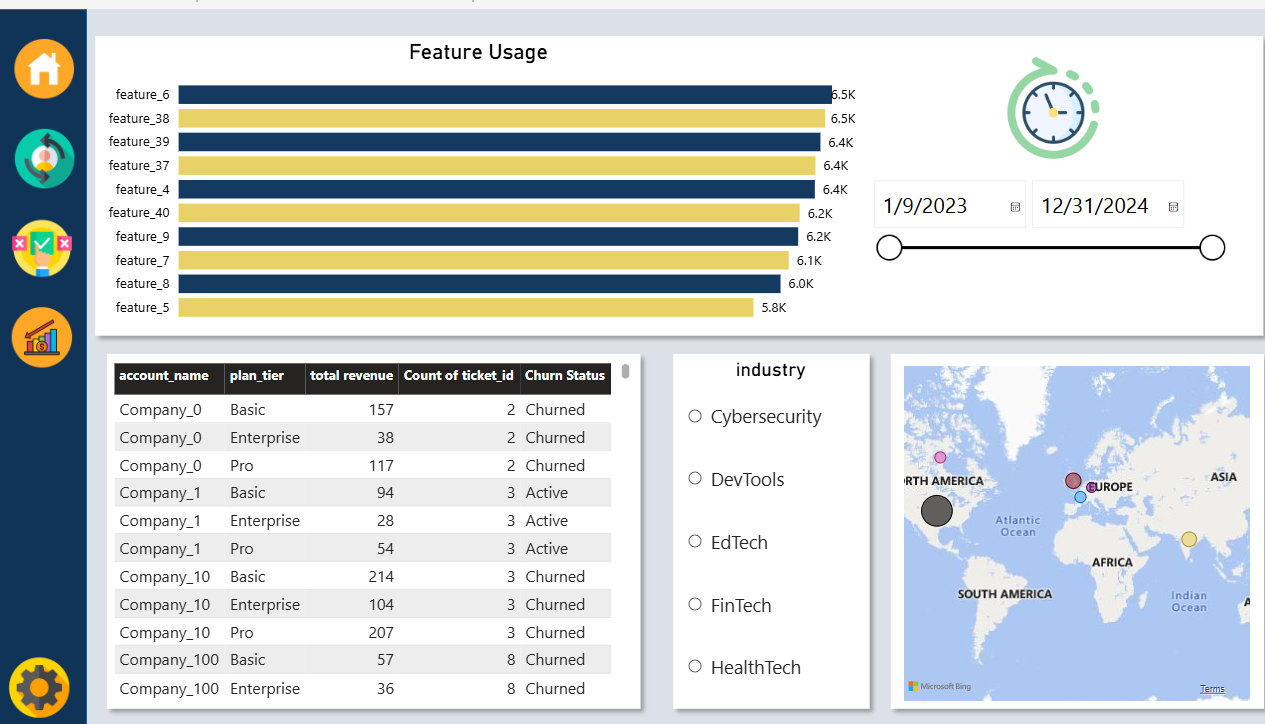

What the dashboard file says about the page in this screenshot:
{"tool":"powerbi","page":{"name":"Customer Behavior Dashboard","canvas":[1280,720],"ordinal":2},"visuals":[{"type":"shape","box":[88.3,18.6,1192.2,318.9],"z":0},{"type":"shape","box":[0,0,88.5,720.6],"z":1000},{"type":"image","box":[7.8,29.9,75.4,59.8],"z":2000},{"type":"image","box":[7.7,651.8,65,60.4],"z":3000},{"type":"image","box":[11.7,210.7,62.4,59.8],"z":4000},{"type":"clusteredBarChart","title":"Feature Usage","fields":{"Category":["ravenstack_feature_usage.feature_name"],"Y":["Table.Total usage"]},"box":[98.8,29.5,767.6,294.6],"z":5000},{"type":"image","box":[10.8,300.4,65,60.4],"z":6000},{"type":"shape","box":[99.1,337.5,554.3,374.7],"z":7000},{"type":"shape","box":[887.2,337.5,393.3,374.7],"z":8000},{"type":"map","fields":{"Category":["ravenstack_accounts.country"],"Size":["Table.total revenue"]},"box":[904.2,353,357.6,346.8],"z":9000},{"type":"tableEx","fields":{"Values":["ravenstack_accounts.account_name","ravenstack_subscriptions.plan_tier","Table.total revenue","ravenstack_support_tickets.ticket_id","Table.Churn Status"]},"box":[109.9,351.5,529.5,346.8],"z":10000},{"type":"shape","box":[668.8,337.5,215.2,374.7],"z":12000},{"type":"listSlicer","fields":{"Values":["ravenstack_accounts.industry"]},"box":[684.3,351.5,182.7,346.8],"z":13000},{"type":"slicer","fields":{"Values":["ravenstack_subscriptions.start_date"]},"box":[866.3,162.9,374.3,128.2],"z":14000},{"type":"image","box":[984.2,48.5,150.7,102.2],"z":15000},{"type":"image","box":[14.3,121,62.4,59.8],"z":15001}]}

Visuals, with their boxes on the page's 1280x720 design canvas (x1, y1, x2, y2). These are canvas units, not pixel positions in the 1265x724 screenshot, which may show the page scaled, cropped or inside an application window:
shape: <box>88,19,1280,338</box>
shape: <box>0,0,88,721</box>
image: <box>8,30,83,90</box>
image: <box>8,652,73,712</box>
image: <box>12,211,74,270</box>
"Feature Usage" clusteredBarChart: <box>99,30,866,324</box>
image: <box>11,300,76,361</box>
shape: <box>99,338,653,712</box>
shape: <box>887,338,1280,712</box>
map - ravenstack_accounts.country x Table.total revenue: <box>904,353,1262,700</box>
tableEx - ravenstack_accounts.account_name x ravenstack_subscriptions.plan_tier: <box>110,352,639,698</box>
shape: <box>669,338,884,712</box>
listSlicer - ravenstack_accounts.industry: <box>684,352,867,698</box>
slicer - ravenstack_subscriptions.start_date: <box>866,163,1241,291</box>
image: <box>984,48,1135,151</box>
image: <box>14,121,77,181</box>
